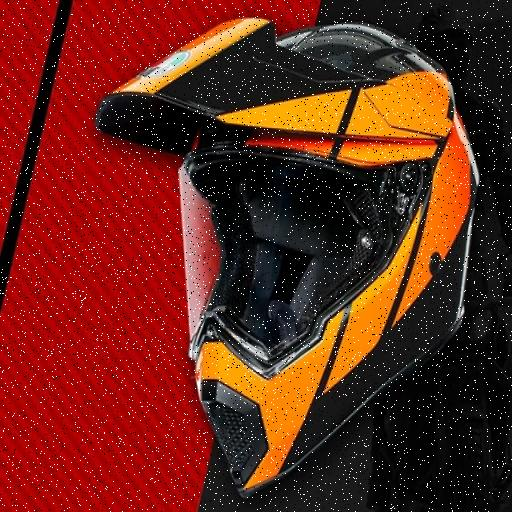Helmet: (97, 20, 477, 495), (417, 5, 472, 49)
